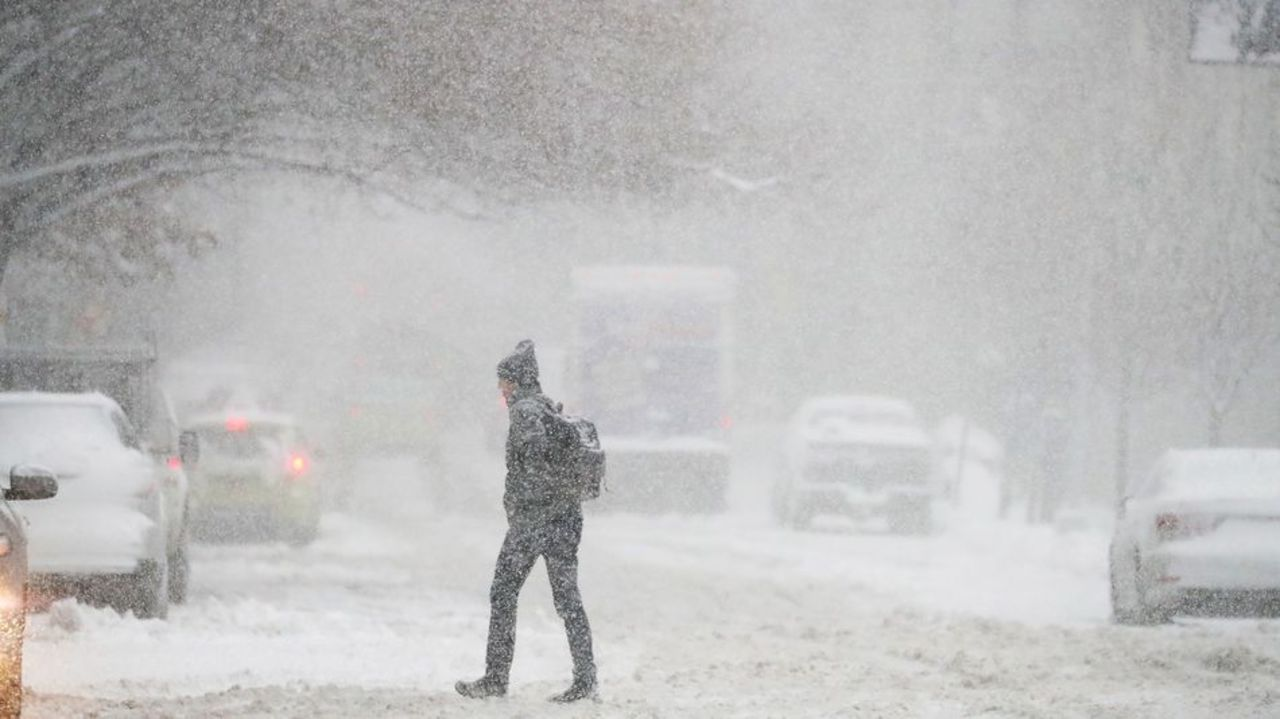car: (0, 388, 195, 622), (1103, 448, 1278, 631), (172, 404, 323, 549), (0, 448, 64, 718), (336, 371, 447, 472)
person: (458, 336, 602, 704)
truck: (569, 261, 735, 514), (776, 395, 949, 533)
